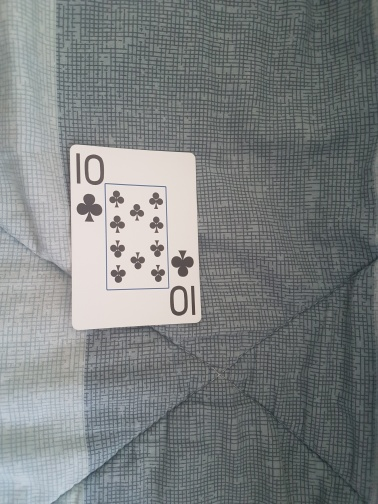ten: (71, 144, 202, 330)
